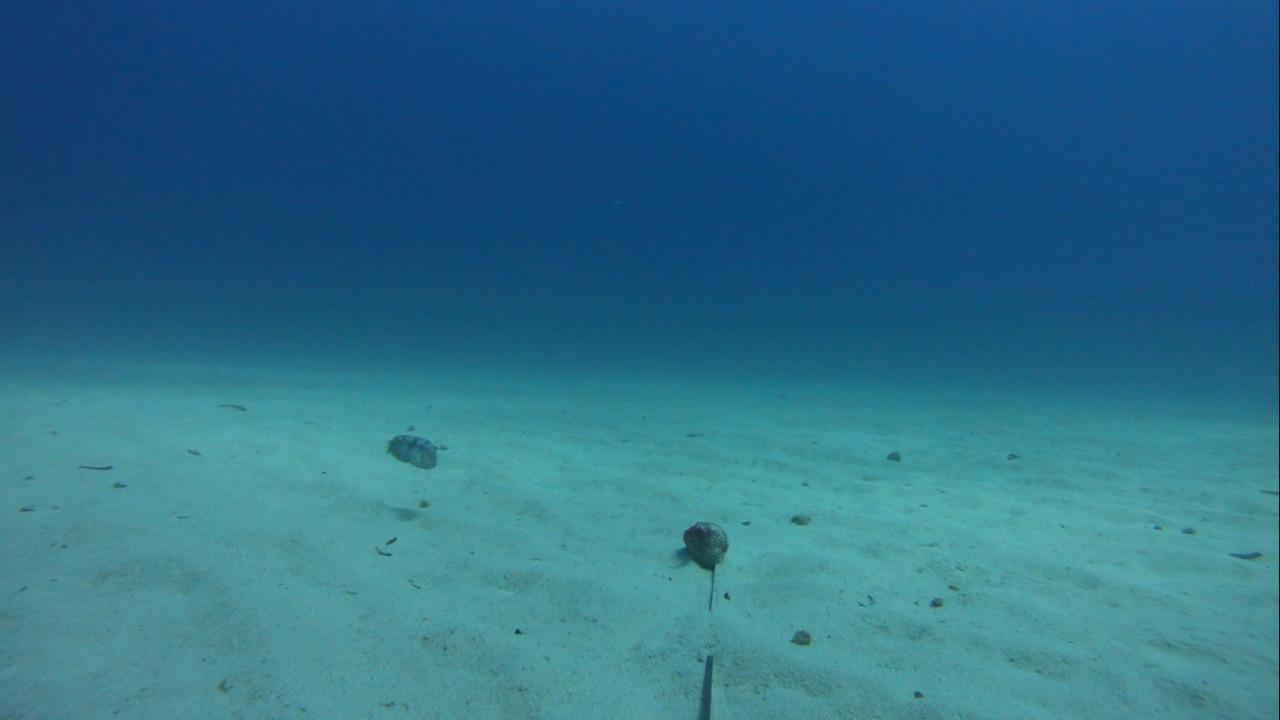raor: (377, 428, 442, 471)
